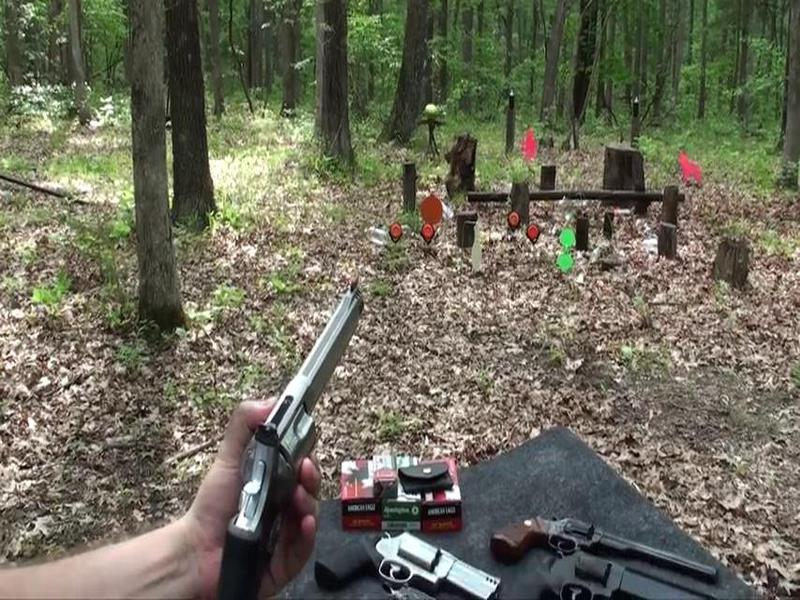Revolver: (199, 267, 386, 592)
